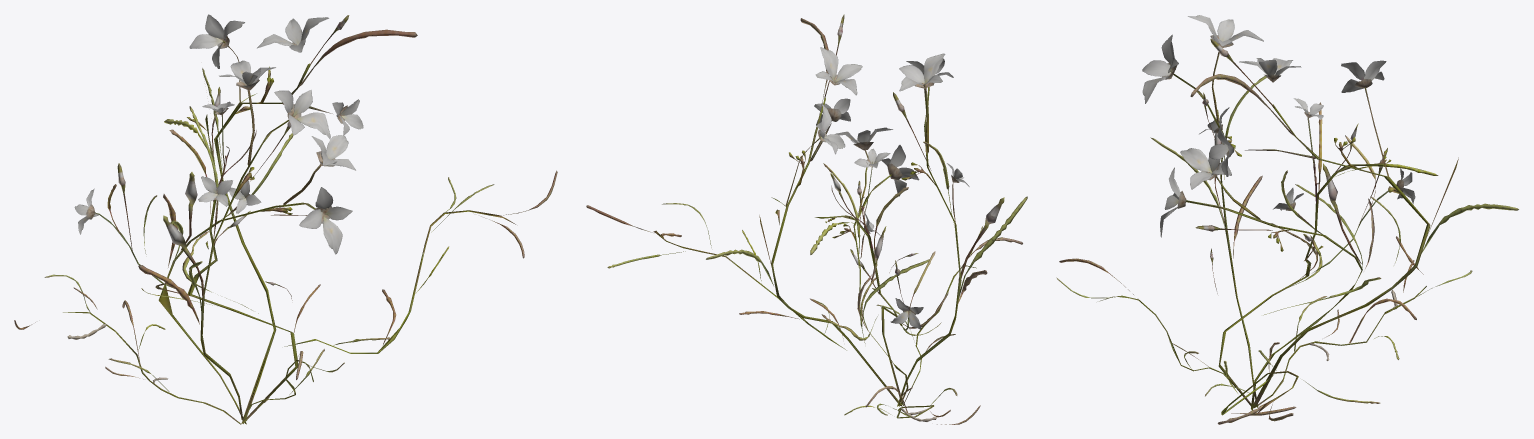
Rendered from flower_heliophila_small.gltf.
3 renders of one model, left to right at view 1: azimuth 30°, elevation 25°; view 2: azimuth 150°, elevation 25°; view 3: azimuth 270°, elevation 25°, orthographic. The views are drawn at different scales.
Visible parts, largest first — view 1: flower_heliophila_small__x; view 2: flower_heliophila_small__x; view 3: flower_heliophila_small__x.
Boxes of the visible parts, x1,y1,x2,y2 form: flower_heliophila_small__x: [14, 14, 557, 424]; flower_heliophila_small__x: [586, 14, 1027, 424]; flower_heliophila_small__x: [1056, 15, 1518, 424].
Bounding box in the file's own units: 0.3431 × 0.2699 × 0.2737.
1 material, 1 textured.
